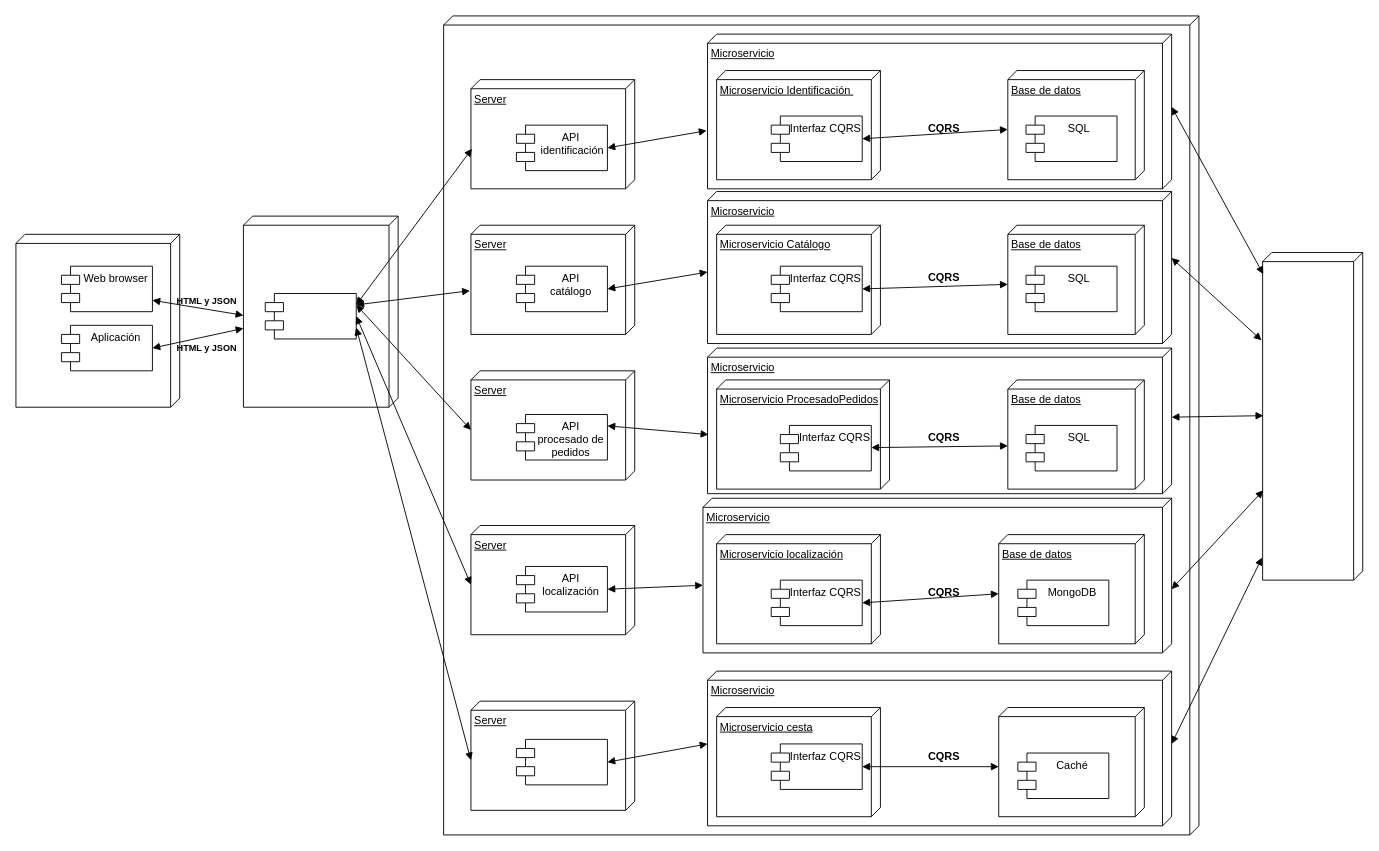
Some shapes in this 1379 by 851 pixel diagram are drawn without their labels. The box of each missing label's shape, as (x1, y1, x2, y2) in pixels:
API cesta: (516, 738, 607, 785)
API única: (264, 293, 356, 339)
Bus de eventos: (1262, 252, 1363, 580)
Cluster: (443, 15, 1199, 835)
Database server: (998, 707, 1144, 817)
Device: (15, 233, 180, 407)
Model GateWay: (243, 215, 398, 407)
